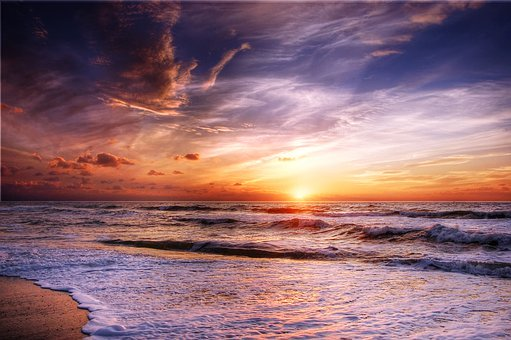sea: (5, 199, 507, 340)
sky: (6, 3, 509, 203)
